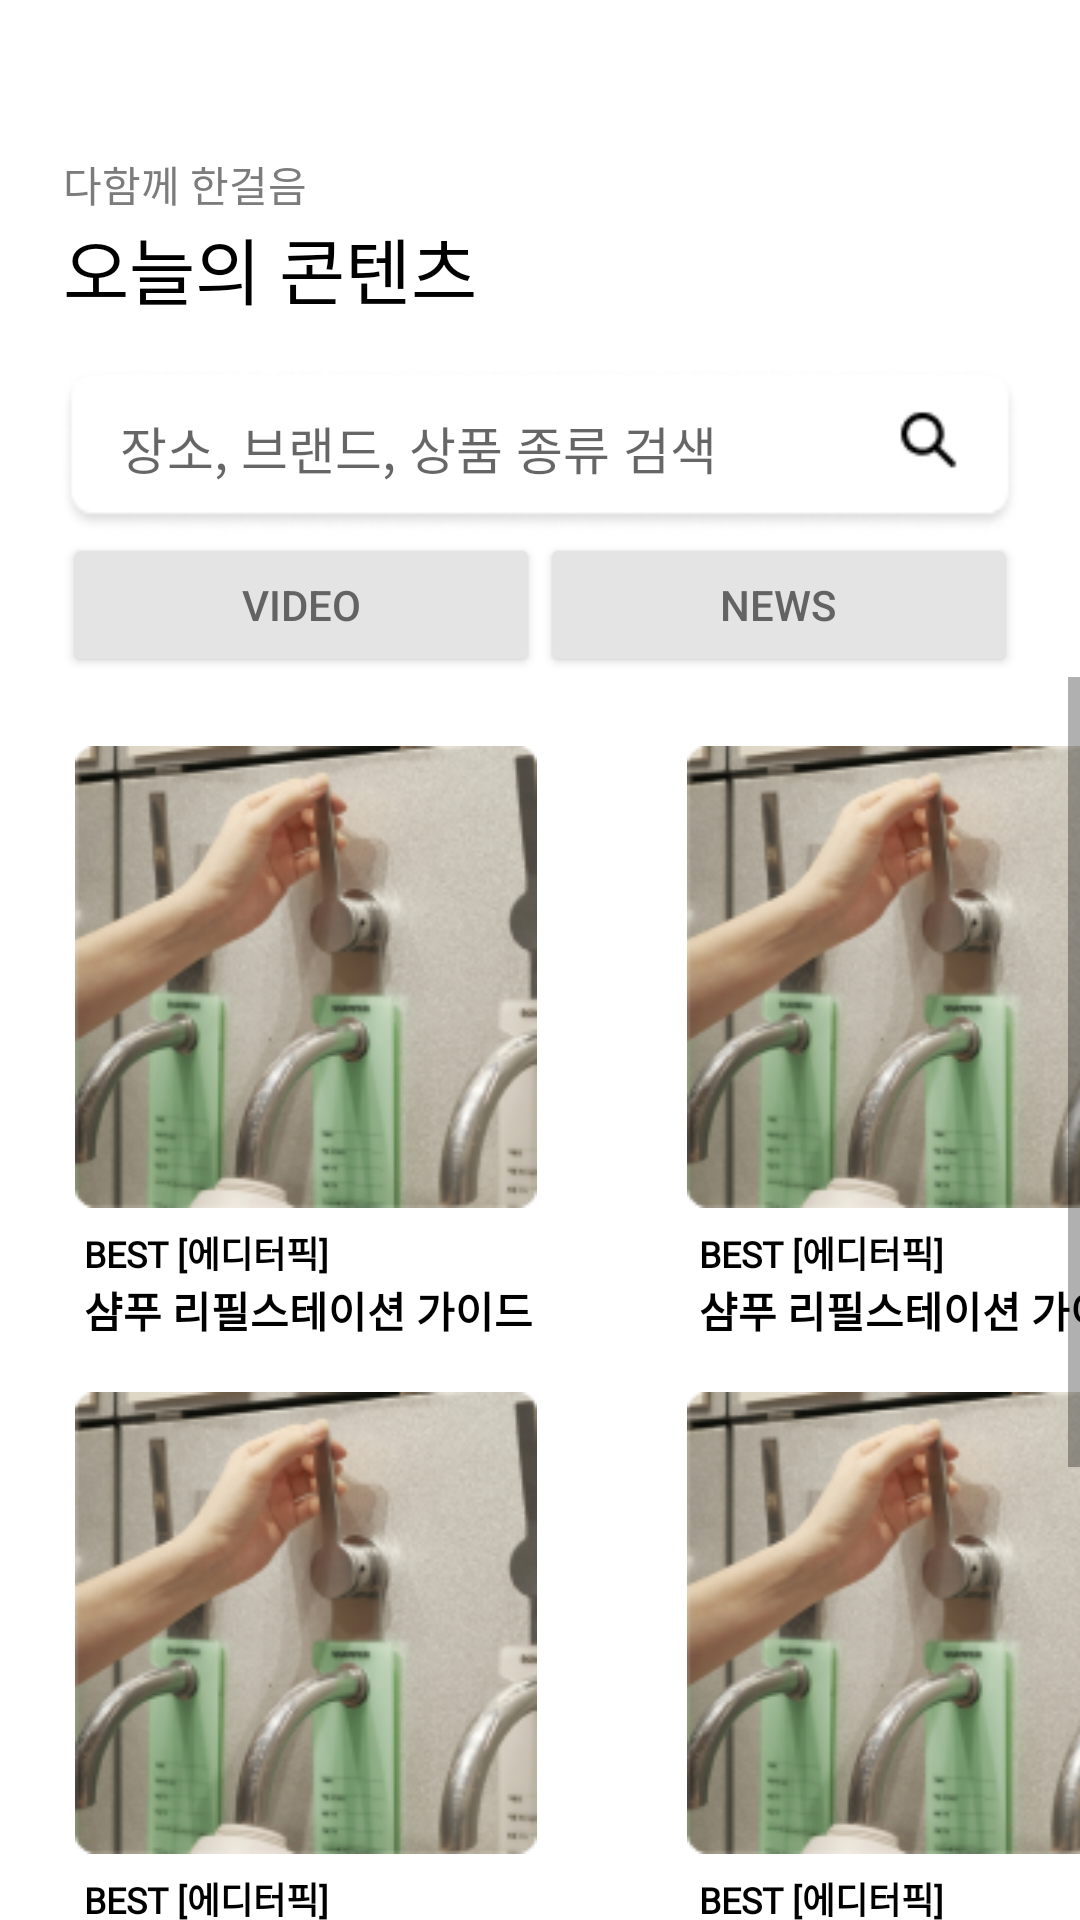

Named icons in this screenshot (1080*1920) and their bounding boxes, (x1, y1, x2, y2):
map search: (900, 412, 957, 468)
